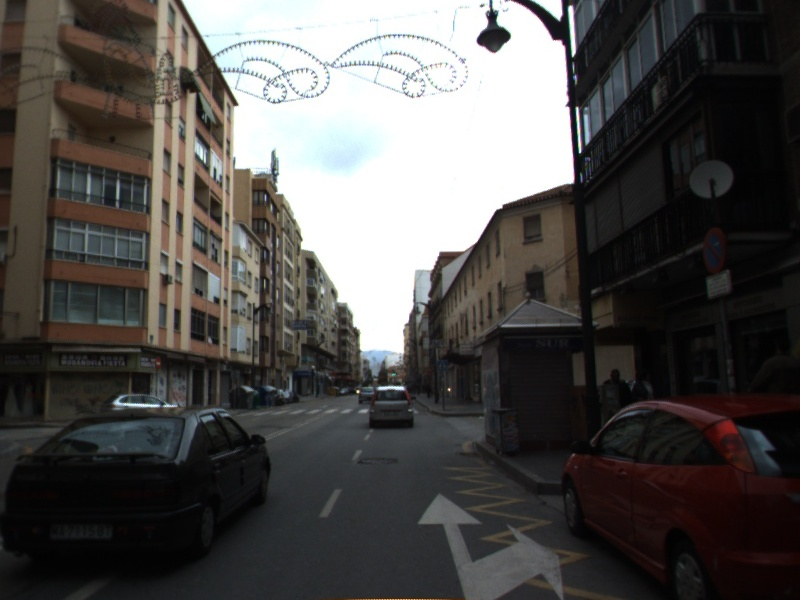STRAIGHT_RIGHT: (415, 490, 566, 600)
